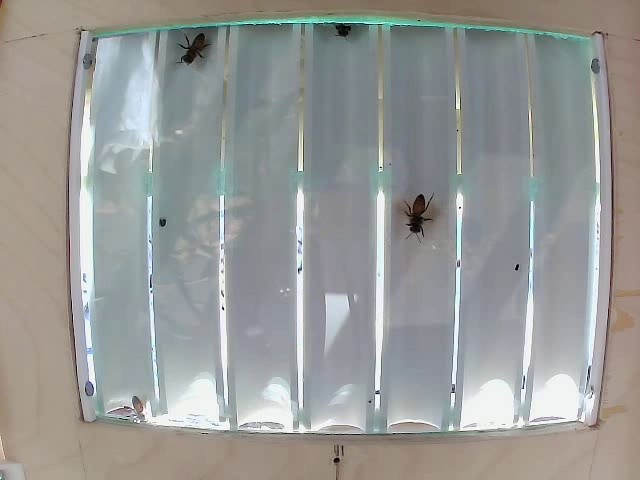bee: (399, 184, 439, 250), (179, 37, 219, 73)
